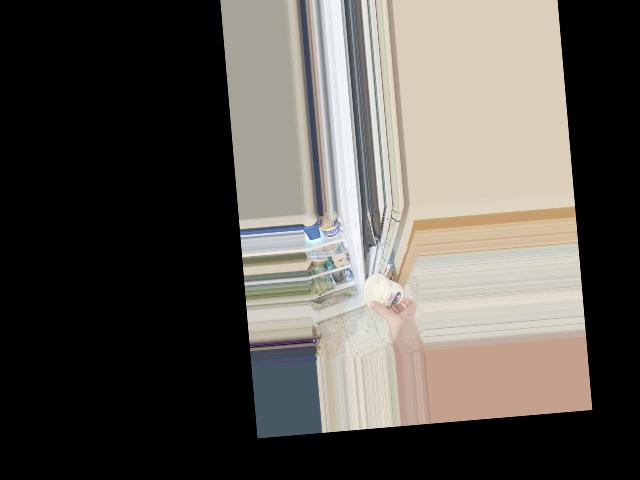cotage: (362, 274, 404, 309)
